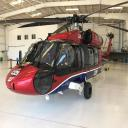helicopter: (4, 5, 128, 103)
